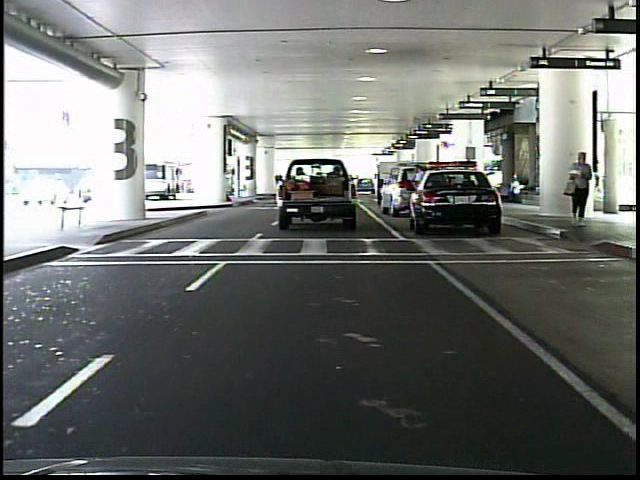person: (564, 147, 598, 232), (408, 160, 429, 217)
